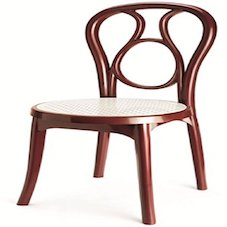chair: (13, 0, 221, 224)
